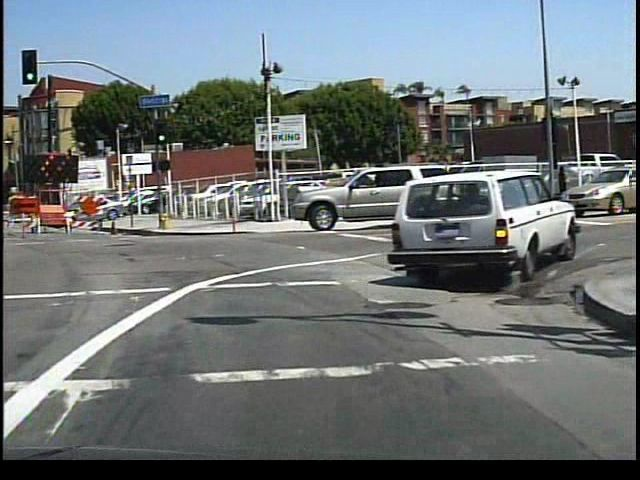person: (553, 161, 572, 205)
